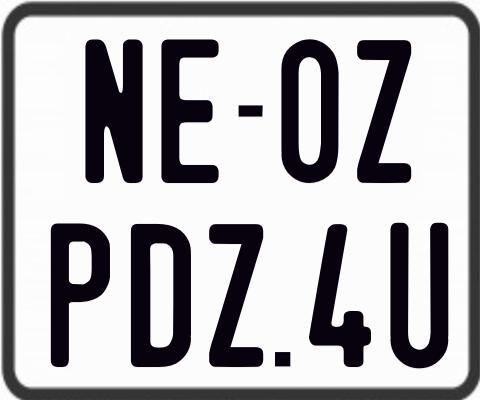0: (280, 39, 342, 185)
4: (307, 224, 369, 370)
D: (128, 221, 191, 368)
E: (158, 37, 221, 185)
N: (82, 36, 143, 180)
P: (51, 221, 112, 368)
U: (390, 221, 453, 369)
Z: (208, 224, 265, 371), (357, 40, 411, 187)
